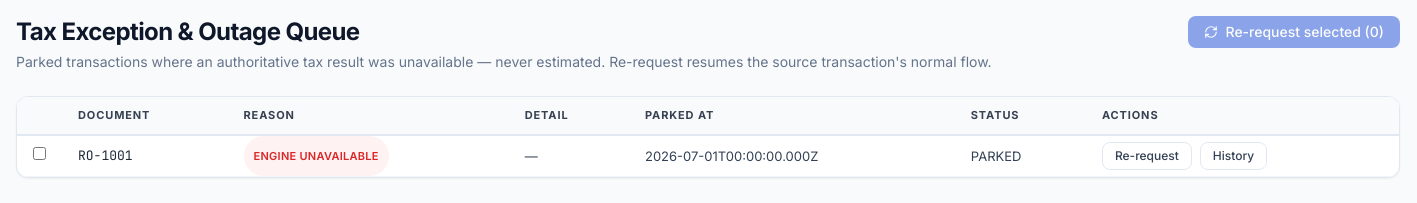
Test: TaxExceptionQueue › shows a re-request validation/API failure inline on the row
Expected: the table with test id "tax-exception-table" is shown, top-left (17, 97), bottom-right (1399, 176)
Click the button with test id "tax-exception-re-request-exc-1" at {"x": 1147, "y": 156}, box top-left (1102, 142), bottom-right (1192, 170)
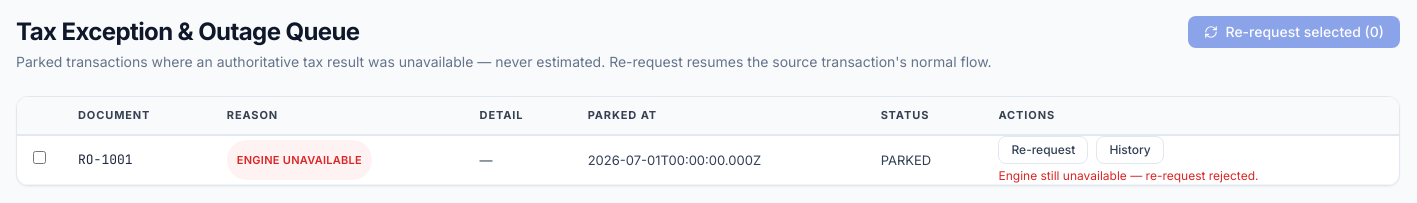
Expected: the text with test id "tax-exception-error-exc-1" shows "still unavailable", top-left (998, 168), bottom-right (1258, 182)
